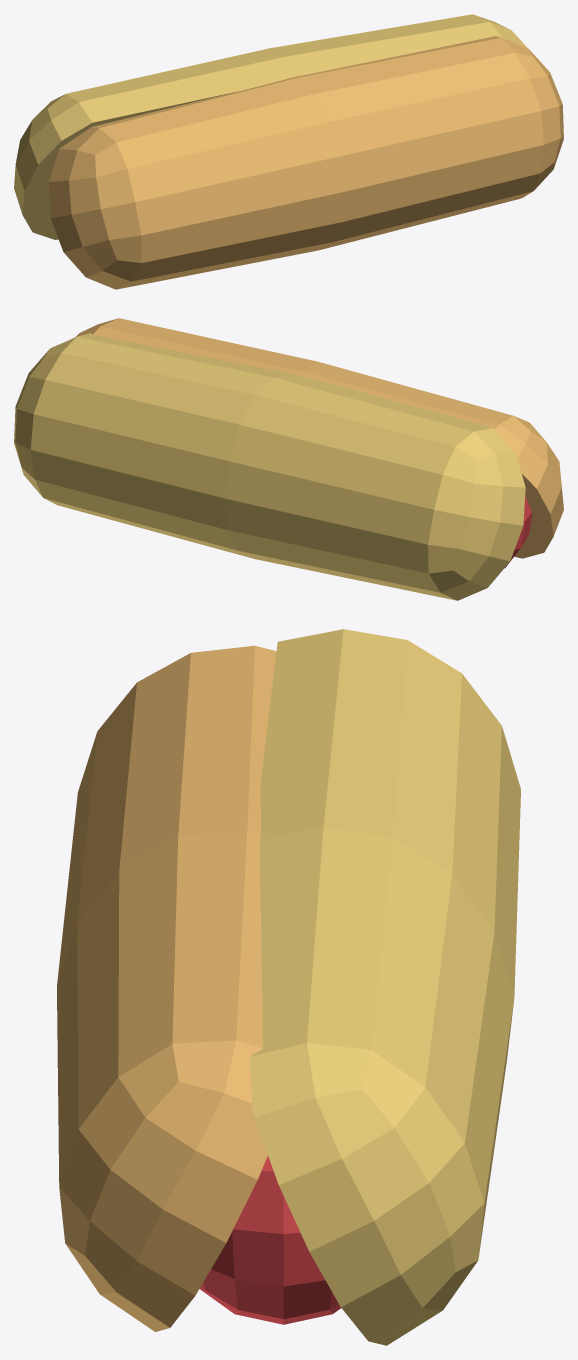
The model's file is hotdog.glb.
The picture shows the model from 3 angles, top to bottom: view 1: azimuth 30°, elevation 25°; view 2: azimuth 150°, elevation 25°; view 3: azimuth 270°, elevation 25°; orthographic projection. The views are drawn at different scales.
Parts seen in each view (by area): view 1: Cube.002, Cube.001; view 2: Cube.001, Cube.002, Cube; view 3: Cube.001, Cube.002, Cube.
Part boxes in pixels (x1,y1,x2,y2): Cube.002: (48,36,563,289); Cube.001: (14,14,527,239); Cube.001: (14,333,525,600); Cube.002: (75,318,563,558); Cube: (505,496,531,567); Cube.001: (250,629,520,1345); Cube.002: (57,645,276,1331); Cube: (199,1156,340,1324).
Bounding box in the file's own units: 5.6 × 1.74 × 2.24.
